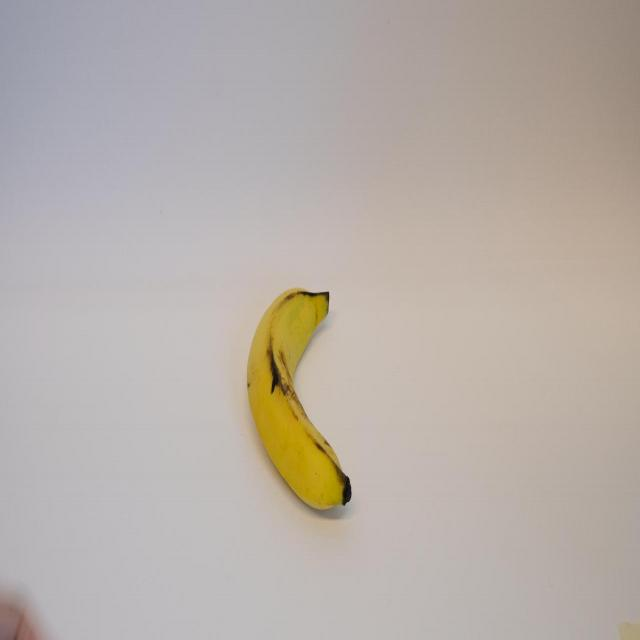banana: (241, 280, 355, 526)
